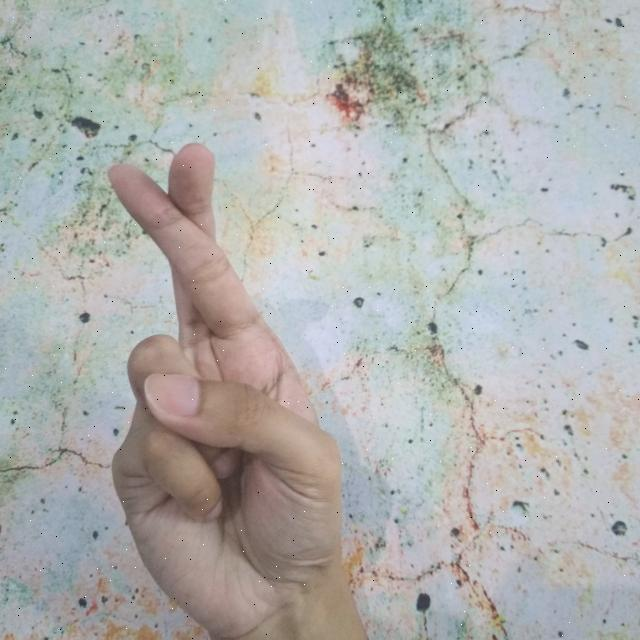R: (102, 139, 370, 640)
